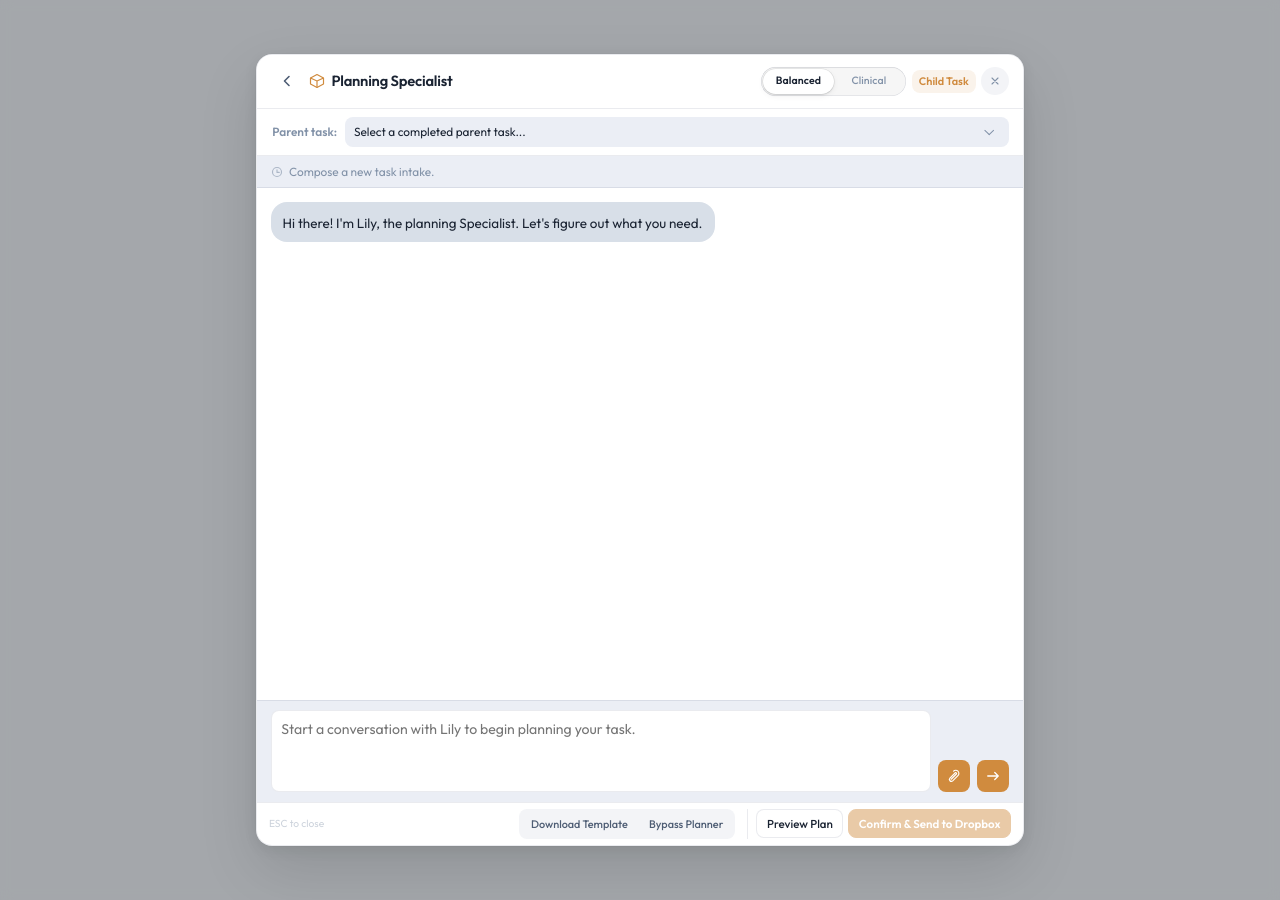
Test: PlannerModal › shows parent task dropdown when child-task mode is active
The image size is (1280, 900).
Expected: the element named "Parent task selection" is shown, [257,109,1023,155]
Click the button "Select a completed parent task..." at (440, 132), box [345,117,1009,147]
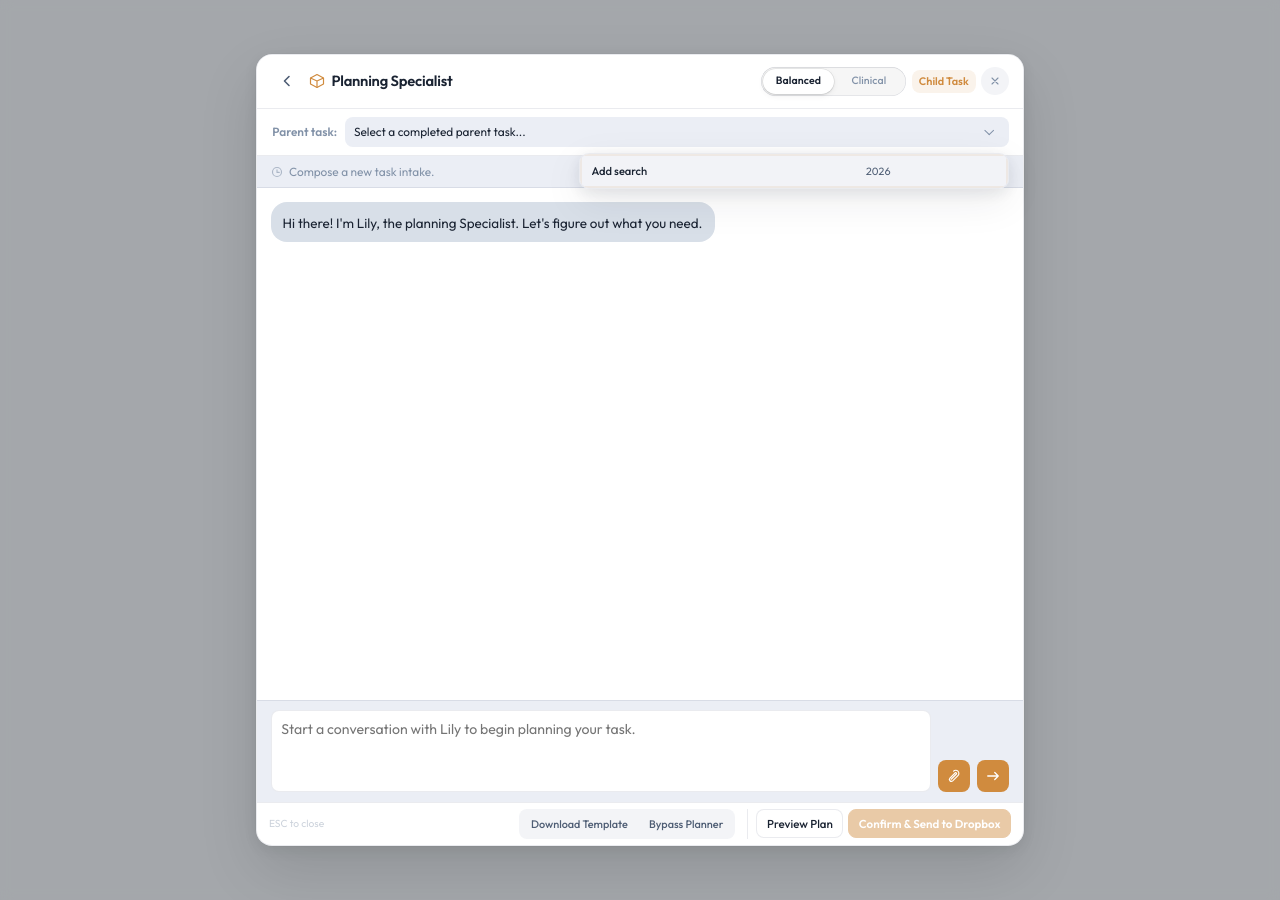
Result: the text "Add search" is shown at [592,164,647,178]
Result: the text "2026" is shown at [866,164,891,178]
